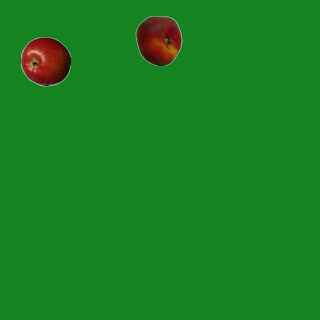Apple Braeburn: (20, 36, 70, 86)
Nectarine Flat: (133, 15, 183, 65)
